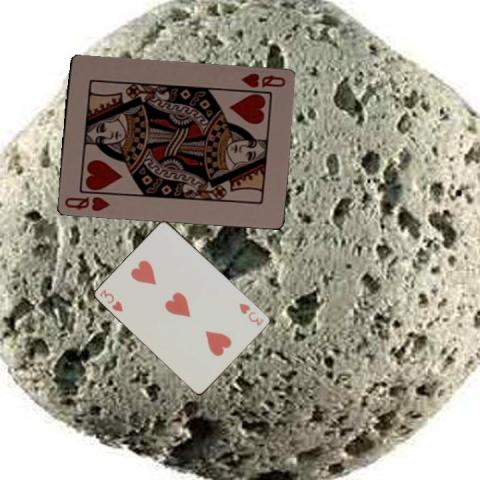3h: (236, 300, 265, 327), (97, 287, 125, 313)
Qh: (61, 194, 111, 213), (238, 70, 287, 89)
